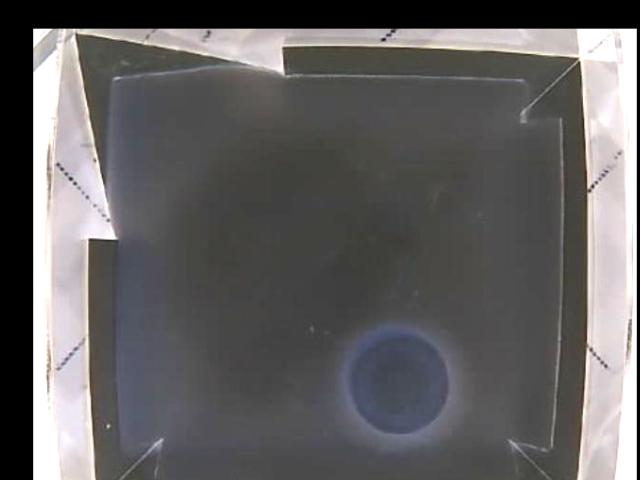Mooli: (348, 330, 450, 435)
